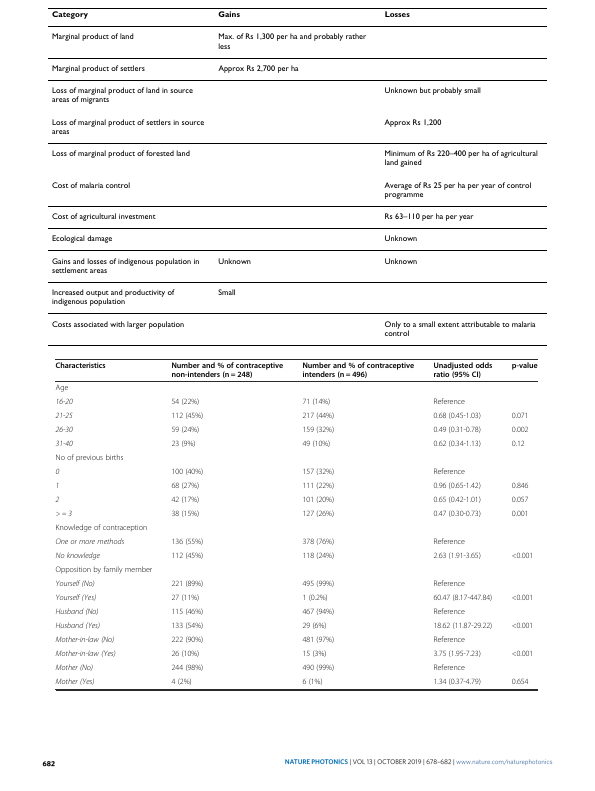borderless: (47, 6, 547, 345), (54, 358, 537, 689)
cell: (50, 118, 205, 137), (383, 149, 538, 168), (383, 320, 536, 339), (217, 33, 367, 52), (50, 257, 200, 276), (383, 181, 532, 200), (50, 86, 193, 105), (50, 288, 175, 307), (170, 362, 284, 380), (301, 362, 415, 380), (50, 149, 190, 159), (50, 320, 185, 330), (432, 362, 493, 380), (50, 212, 156, 222), (383, 86, 481, 96), (55, 566, 153, 576), (50, 64, 145, 74), (55, 524, 148, 534), (383, 212, 474, 222), (217, 64, 299, 74), (50, 181, 131, 191), (50, 33, 134, 42), (55, 454, 124, 464), (55, 538, 125, 547), (432, 594, 493, 604), (432, 622, 493, 632), (383, 118, 442, 128), (50, 235, 113, 244), (55, 650, 117, 659), (55, 636, 115, 645), (432, 412, 482, 422), (432, 426, 482, 436), (432, 440, 482, 450), (432, 482, 482, 492), (432, 496, 482, 506), (432, 510, 482, 520), (432, 552, 482, 562), (432, 650, 482, 660), (432, 678, 482, 688), (55, 362, 107, 371), (55, 552, 101, 562), (55, 622, 101, 631), (55, 608, 99, 617), (55, 594, 97, 603), (55, 580, 96, 589), (55, 678, 95, 687), (55, 664, 94, 673), (383, 257, 418, 267), (50, 11, 88, 20), (217, 257, 251, 267), (432, 398, 466, 408), (170, 412, 204, 422), (301, 412, 335, 422), (301, 426, 335, 436), (170, 468, 204, 478), (301, 468, 335, 478), (432, 468, 466, 478), (301, 482, 335, 492), (301, 496, 335, 506), (301, 510, 335, 520), (170, 538, 204, 548), (301, 538, 335, 548), (432, 538, 466, 548), (170, 552, 204, 562), (301, 552, 335, 562), (170, 580, 204, 590), (301, 580, 335, 590), (432, 580, 466, 590), (170, 608, 204, 618), (301, 608, 335, 618), (432, 608, 466, 618), (170, 622, 204, 632), (170, 636, 204, 646), (301, 636, 335, 646), (432, 636, 466, 646), (170, 664, 204, 674), (301, 664, 335, 674), (432, 664, 466, 674), (383, 235, 418, 244), (170, 398, 200, 408), (301, 398, 331, 408), (170, 426, 200, 436), (301, 440, 331, 450), (170, 482, 200, 492), (170, 496, 200, 506), (170, 510, 200, 520), (170, 594, 200, 604), (170, 650, 200, 660), (301, 594, 329, 604), (170, 440, 196, 450), (301, 622, 327, 632), (301, 650, 327, 660), (383, 11, 410, 20), (511, 362, 538, 371), (511, 552, 534, 562), (511, 594, 534, 604), (511, 622, 534, 632), (511, 650, 534, 660), (170, 678, 192, 688), (301, 678, 323, 688), (217, 11, 240, 20), (217, 288, 236, 298), (511, 412, 529, 422), (511, 426, 529, 436), (511, 482, 529, 492), (511, 496, 529, 506), (511, 510, 529, 520), (511, 678, 529, 688), (55, 398, 73, 407), (55, 412, 73, 421), (55, 426, 73, 435), (55, 440, 73, 449), (55, 510, 73, 519), (511, 440, 526, 450), (55, 384, 69, 394), (55, 468, 60, 477), (55, 482, 60, 491), (55, 496, 60, 505)
